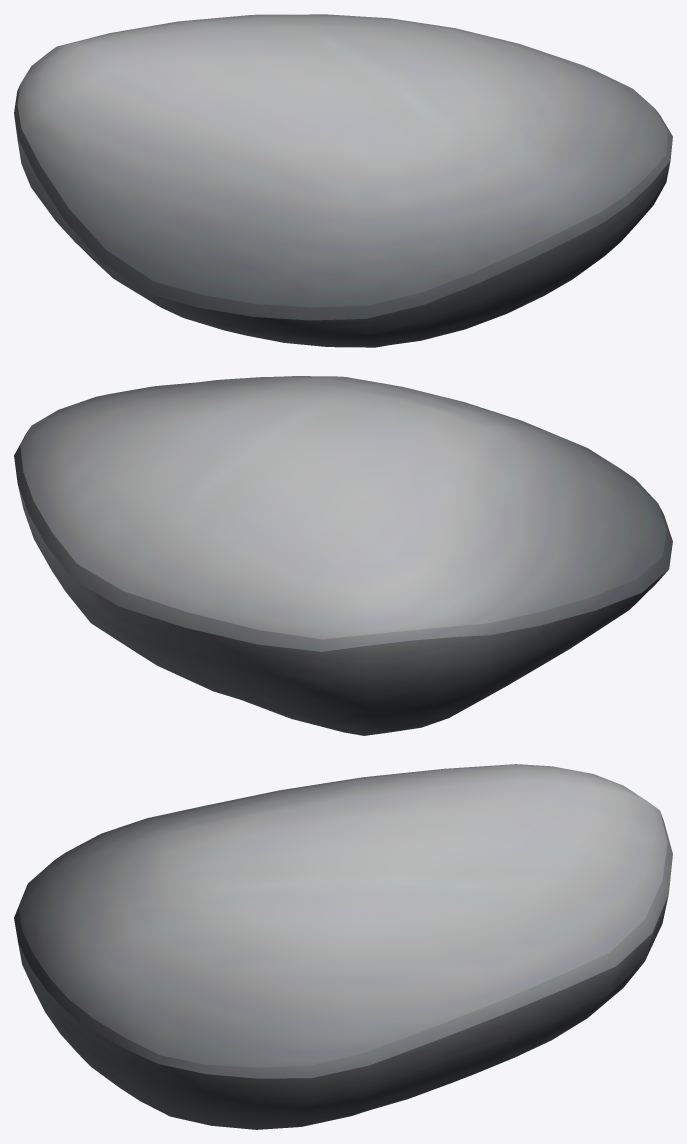
The model's file is M_Rock_Plateau_02.fbx.
3 views of the same model, one above another, from view 1: azimuth 30°, elevation 25°; view 2: azimuth 150°, elevation 25°; view 3: azimuth 270°, elevation 25° (orthographic). The views are drawn at different scales.
Visible parts, largest first — view 1: M_Rock_Plateau_02; view 2: M_Rock_Plateau_02; view 3: M_Rock_Plateau_02.
Boxes of the visible parts, x1=… form: M_Rock_Plateau_02: x1=14, y1=14, x2=672, y2=347; M_Rock_Plateau_02: x1=14, y1=376, x2=672, y2=735; M_Rock_Plateau_02: x1=14, y1=764, x2=672, y2=1129.
Size of the model in its own units: 2737 by 863 by 2575.
1 material, 1 textured.
